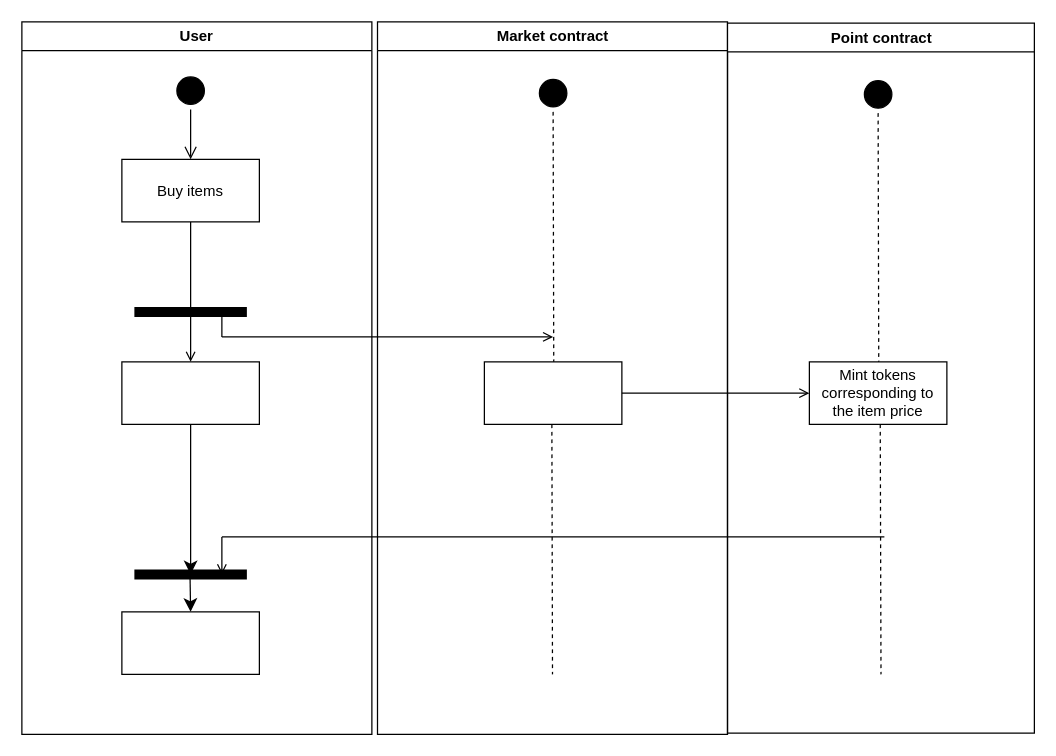
This 1056x756 diagram has some shape labels left out. Each missing label, with the centre of its shape:
Check item price and value sent: pixel 552 392
Receive the corresponding token: pixel 190 642
Sign transaction: pixel 190 392
